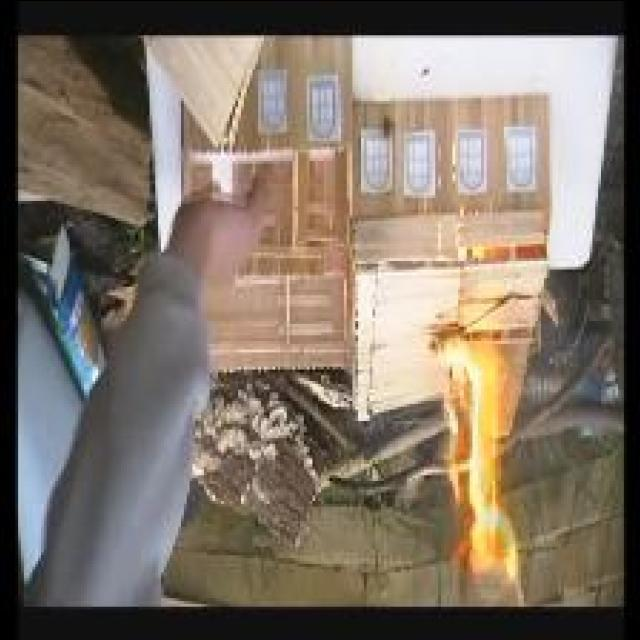Fire: (436, 344, 522, 602)
